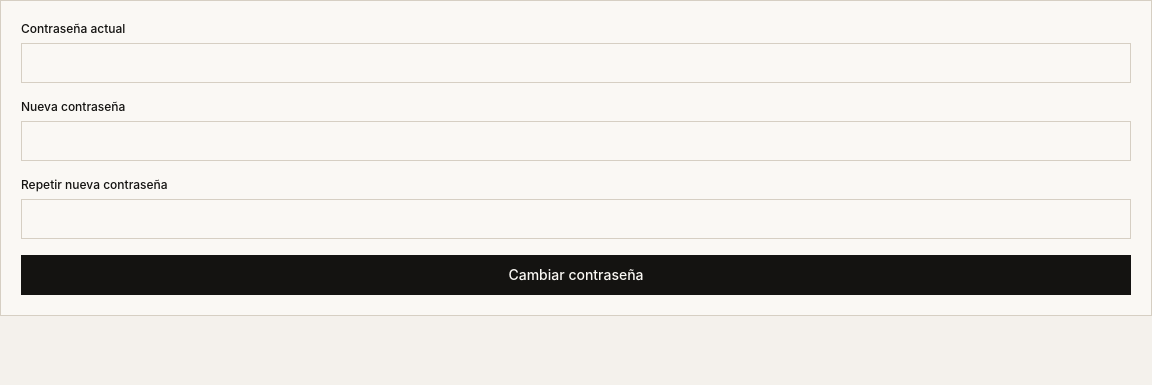
it: ChangePasswordForm › shows the success message and leaves the fields empty
Type "abc" into the password field labelled "Nueva contraseña".
click(576, 141); type("abc")  # box [21,121,1131,161]
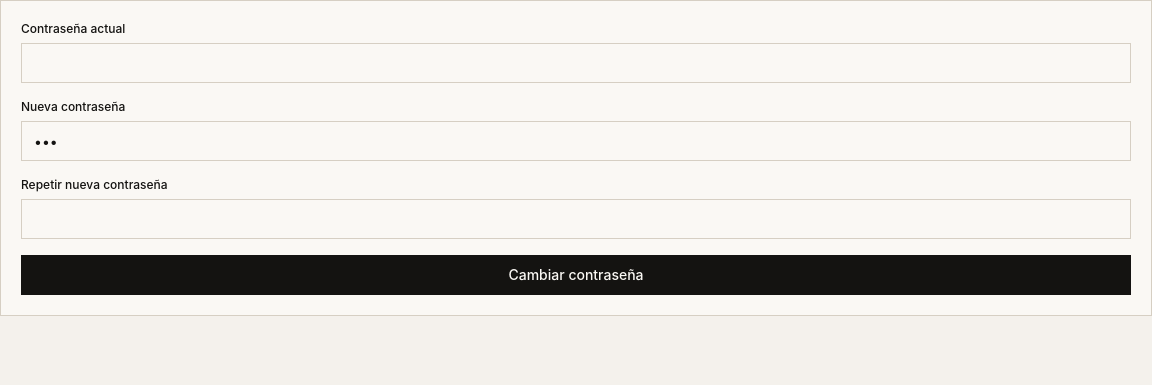
Submit the form "Cambiar contraseña"
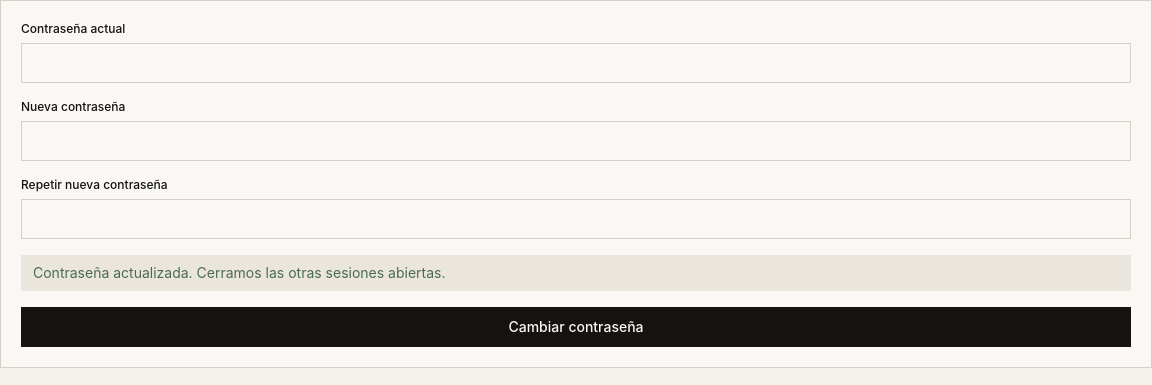
Expected: the message reads "Contraseña actualizada. Cerramos las otras sesiones abiertas.", [33,264,446,281]
Expected: the password field labelled "Nueva contraseña" is empty, [21,121,1131,161]
